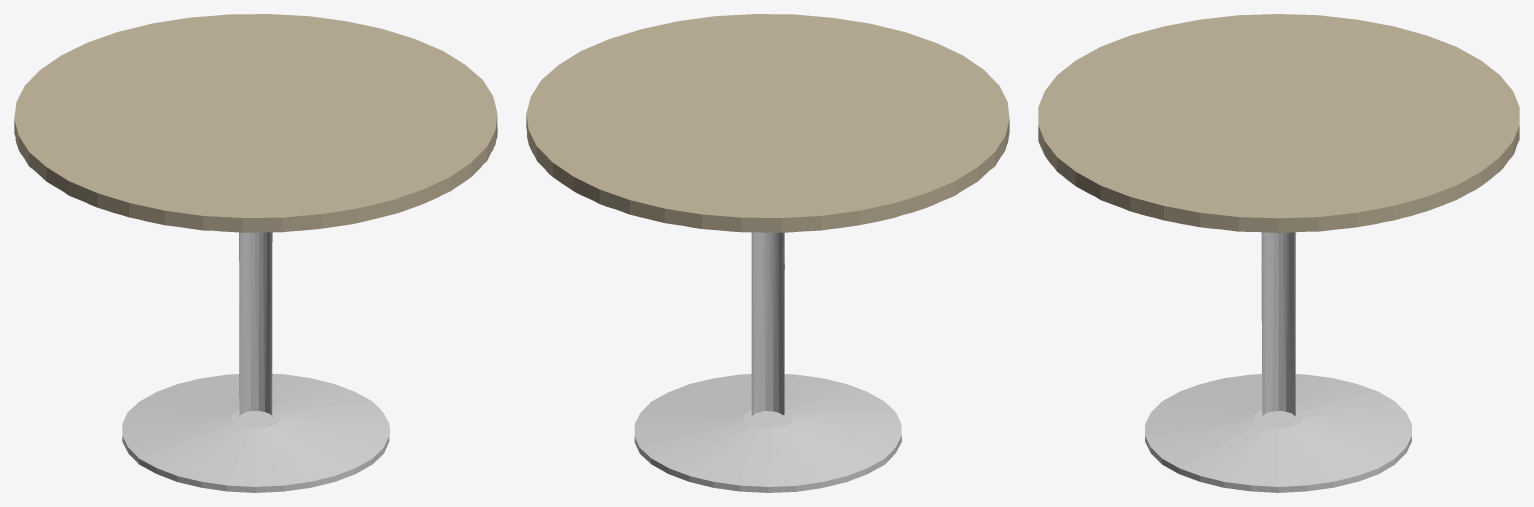
3 views of the same model, side by side, from view 1: azimuth 30°, elevation 25°; view 2: azimuth 150°, elevation 25°; view 3: azimuth 270°, elevation 25° (orthographic).
Size of the model in its own units: 0.914 by 0.6672 by 0.9104.
